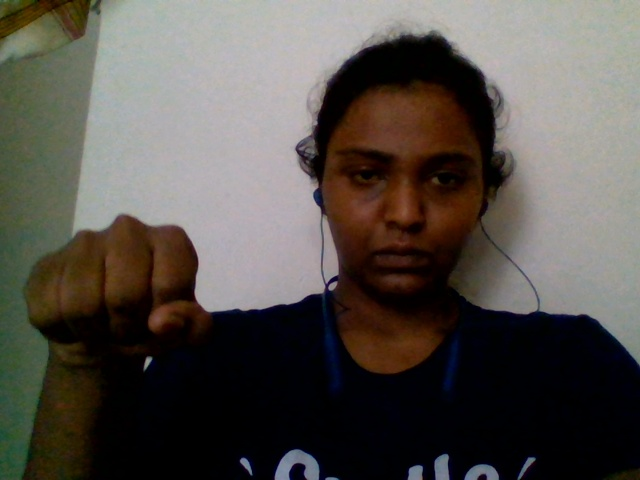Yes: (16, 163, 262, 371)
